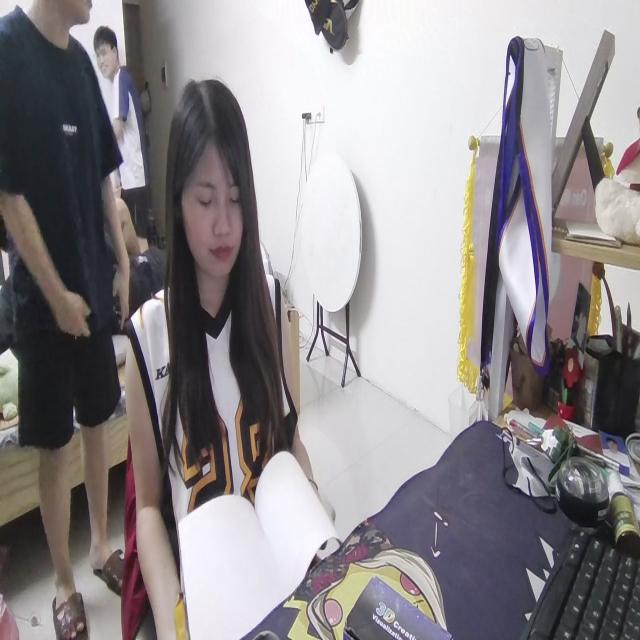book: (174, 448, 334, 640)
extra_person: (1, 0, 131, 640), (97, 25, 149, 234)
student: (121, 102, 335, 640)
